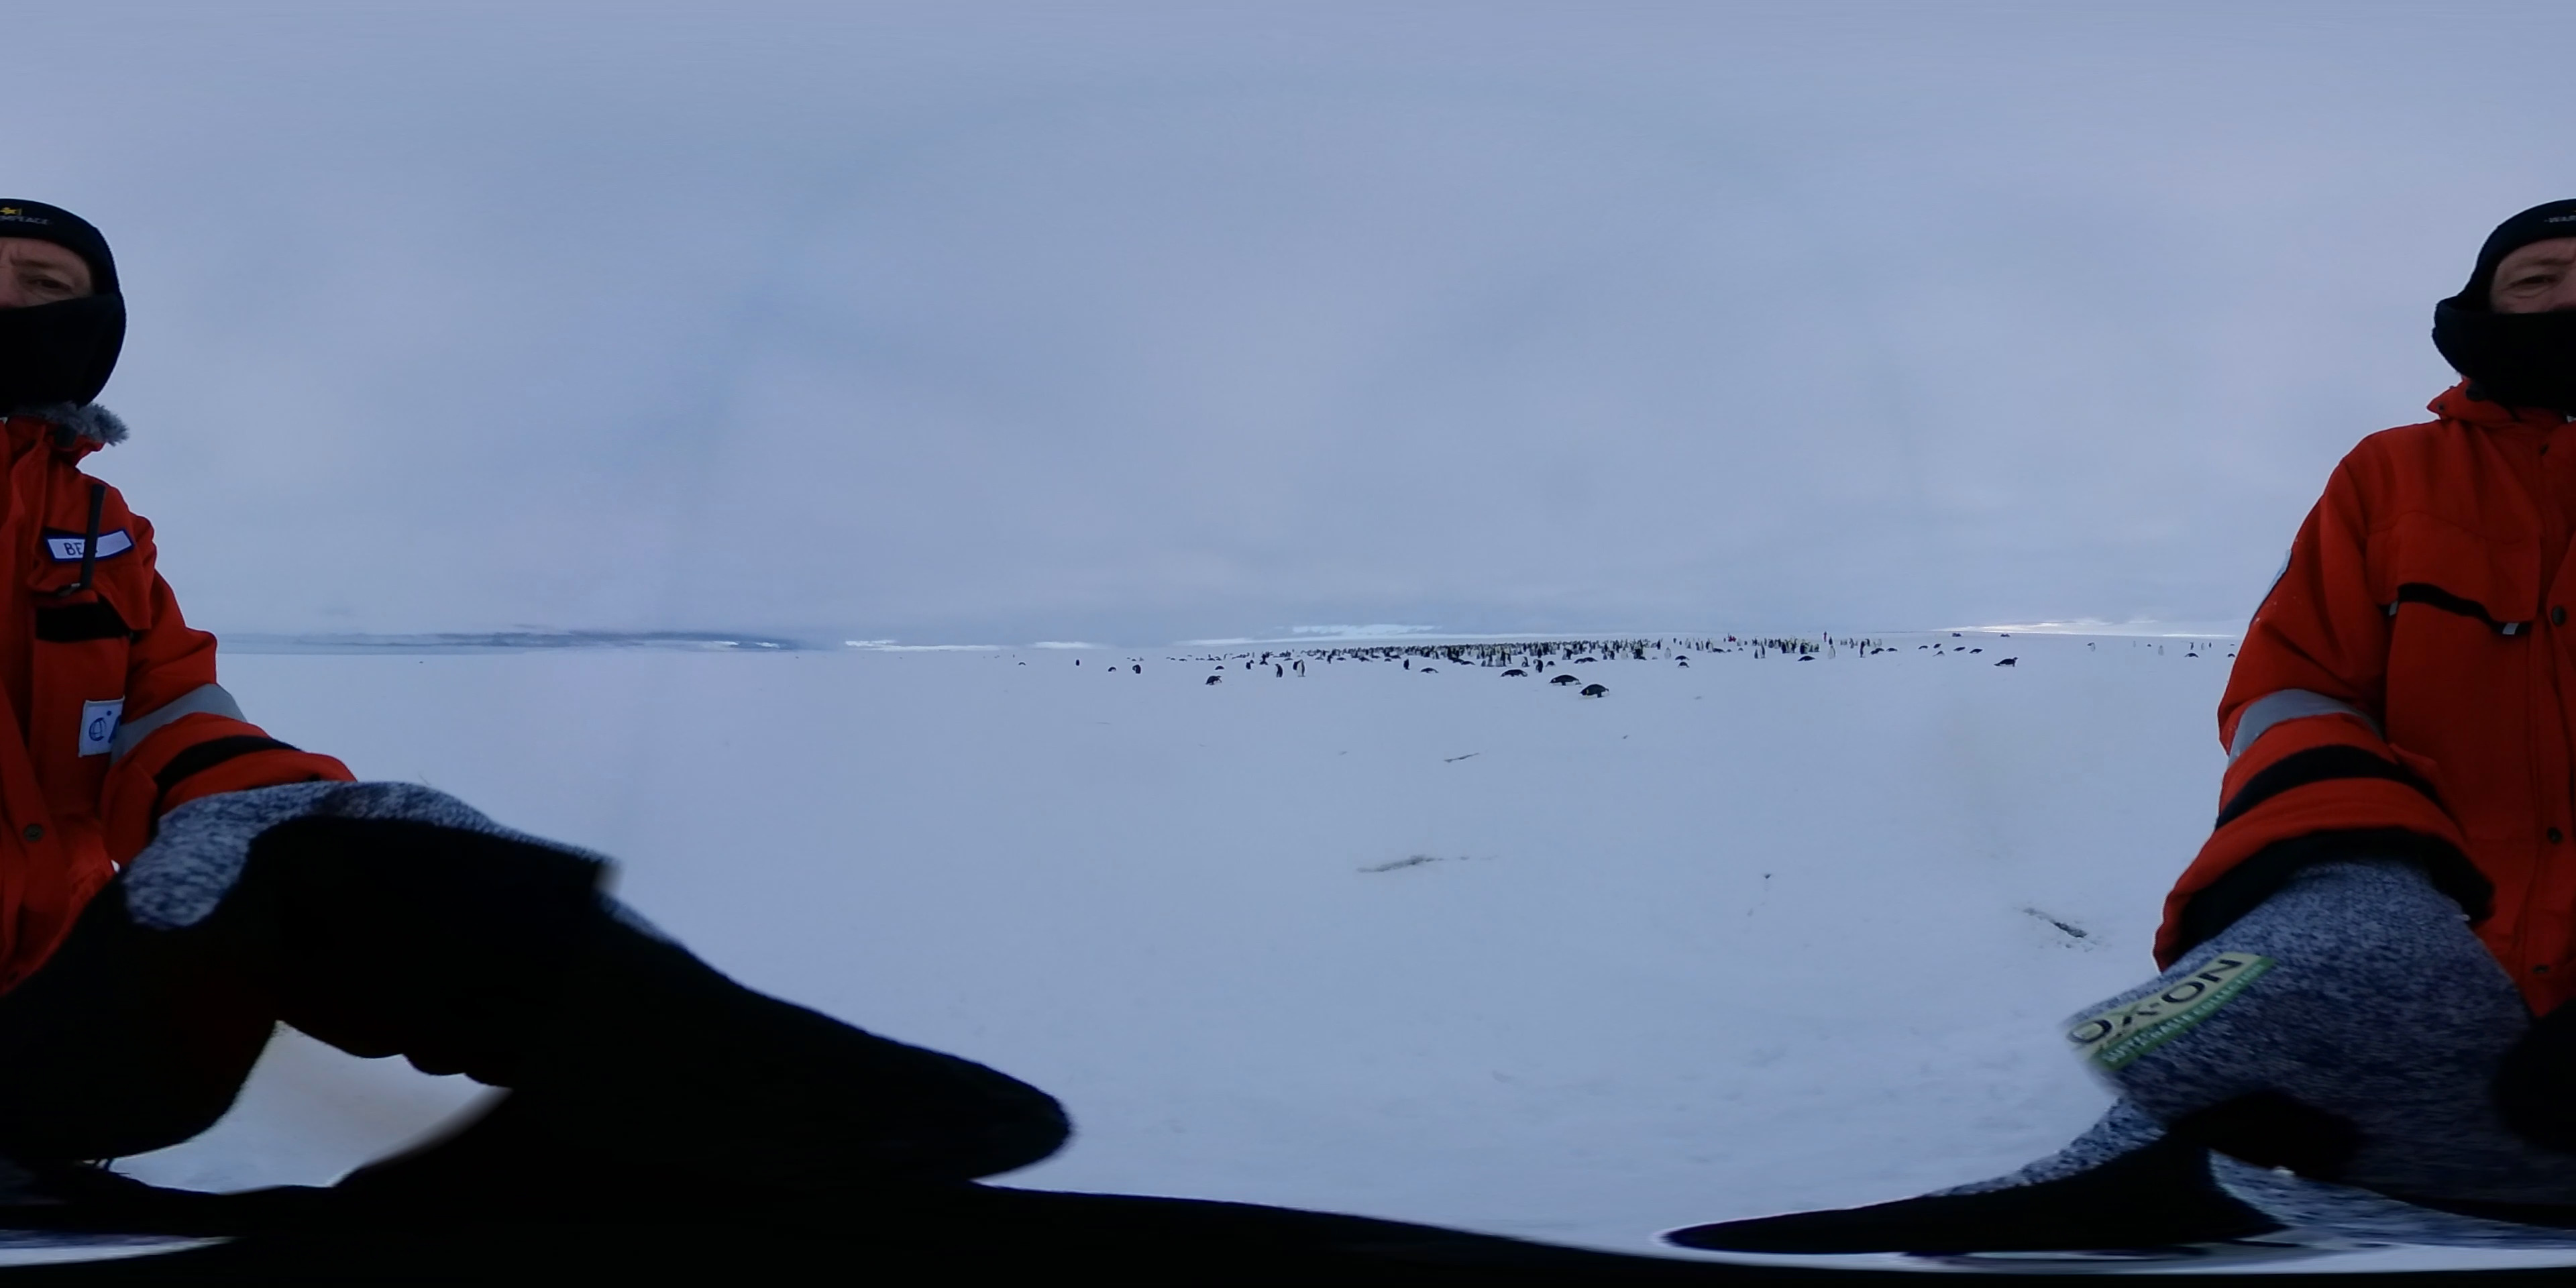adult_standing_penguin: (1273, 660, 1286, 678)
adult_toboggan_penguin: (1549, 672, 1582, 690), (1577, 682, 1613, 697), (1495, 669, 1529, 678), (1201, 674, 1226, 687), (1993, 655, 2017, 667), (1419, 665, 1441, 675), (1797, 655, 1815, 662)
researcher: (2173, 174, 2576, 1150), (0, 174, 309, 1288)
